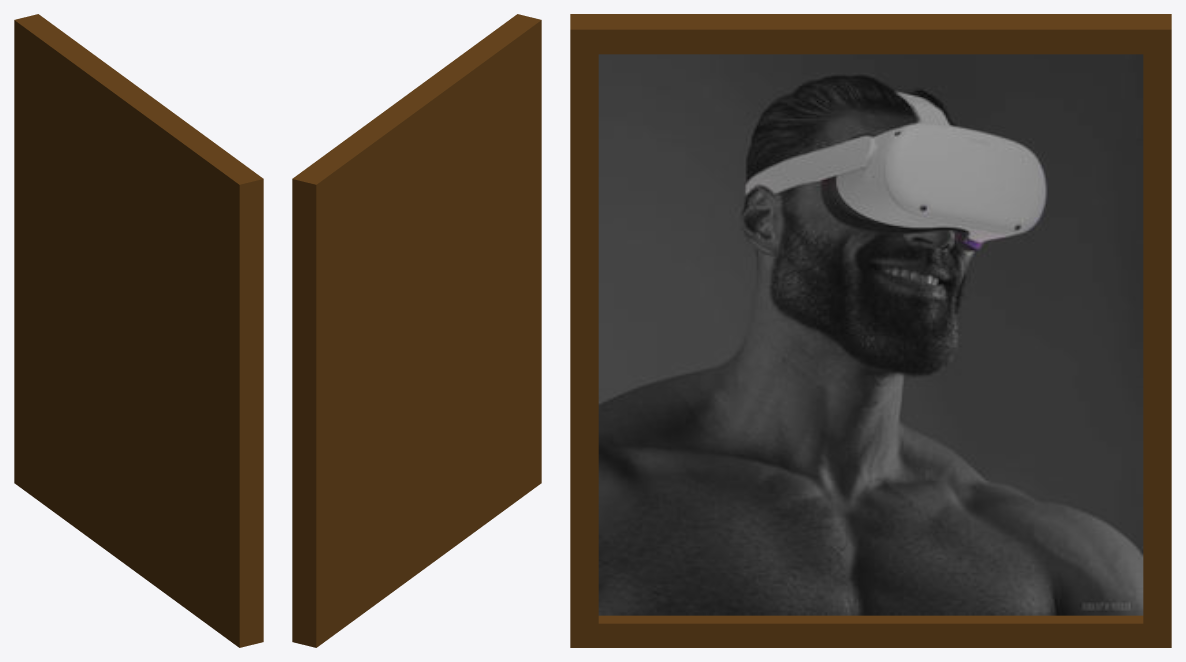
3 views of the same model, side by side, from view 1: azimuth 30°, elevation 25°; view 2: azimuth 150°, elevation 25°; view 3: azimuth 270°, elevation 25° (orthographic). The views are drawn at different scales.
Parts seen in each view (by area): view 1: unknown; view 2: unknown; view 3: unknown.
Part boxes in pixels (bbox=[...]): unknown: bbox=[14, 14, 263, 647]; unknown: bbox=[292, 14, 541, 647]; unknown: bbox=[570, 14, 1171, 647].
Size of the model in its own units: 5.96 by 109 by 95.78.
2 materials, 1 textured.
